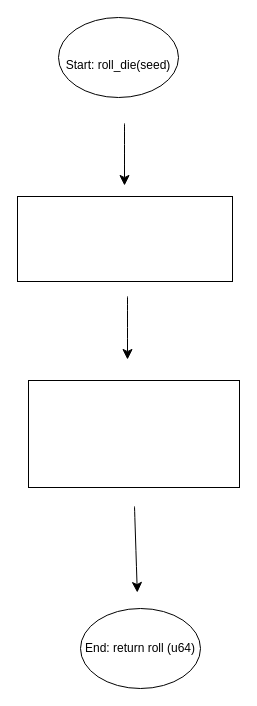
Image size: 257x706. Some labels were removed from this diagram. The centre of each missing label's shape, as x and y in pixels:
"Build seeded generator: StdRng::seed_from_u64(seed_" belongs at point (124, 239).
"Generate die roll: rng.random_range(1..=6" belongs at point (134, 434).
